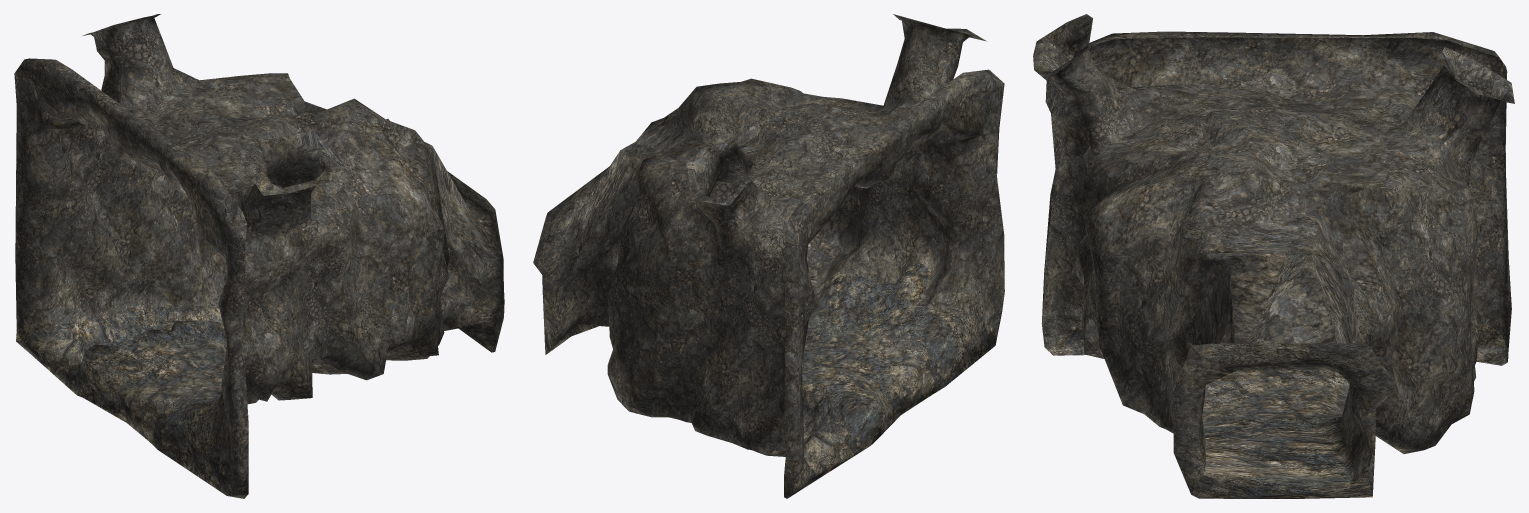
Rendered from Cave10.fbx.
The picture shows the model from 3 angles, left to right: view 1: azimuth 30°, elevation 25°; view 2: azimuth 150°, elevation 25°; view 3: azimuth 270°, elevation 25°; orthographic projection. The views are drawn at different scales.
Parts seen in each view (by area): view 1: Cave10; view 2: Cave10; view 3: Cave10.
Part boxes in pixels (bbox=[...]): Cave10: bbox=[14, 14, 504, 498]; Cave10: bbox=[533, 14, 1004, 498]; Cave10: bbox=[1033, 14, 1514, 498].
Bounding box in the file's own units: 162 × 154 × 187.
